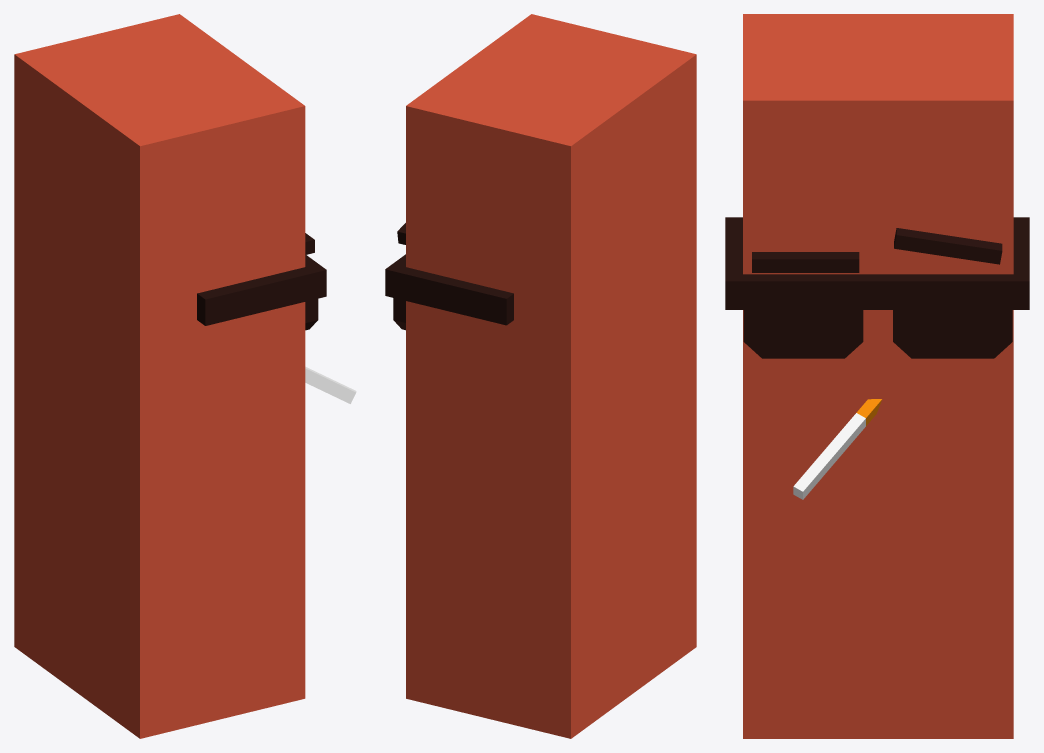
The model's file is player.fbx.
3 views of the same model, side by side, from view 1: azimuth 30°, elevation 25°; view 2: azimuth 150°, elevation 25°; view 3: azimuth 270°, elevation 25° (orthographic). The views are drawn at different scales.
Visible parts, largest first — view 1: BODY, GLASSES, CIGARETTE; view 2: BODY, GLASSES; view 3: BODY, GLASSES, RCIL, LCIL, CIGARETTE.
Boxes of the visible parts, <box> form: BODY: <box>14,14,305,738</box>; GLASSES: <box>197,255,326,330</box>; CIGARETTE: <box>305,366,356,403</box>; BODY: <box>406,14,696,738</box>; GLASSES: <box>385,254,513,330</box>; BODY: <box>743,14,1013,738</box>; GLASSES: <box>725,217,1029,358</box>; RCIL: <box>894,228,1002,264</box>; LCIL: <box>752,252,859,272</box>; CIGARETTE: <box>793,399,882,499</box>.
Size of the model in its own units: 328 by 760 by 329.
